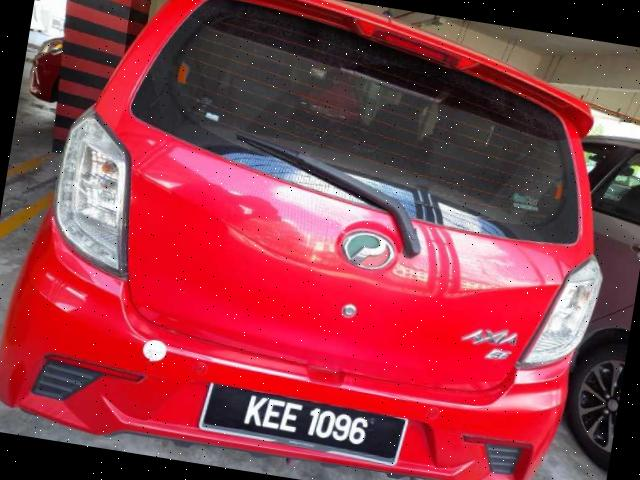License_Plate: (197, 382, 410, 468)
car: (1, 1, 639, 480)
